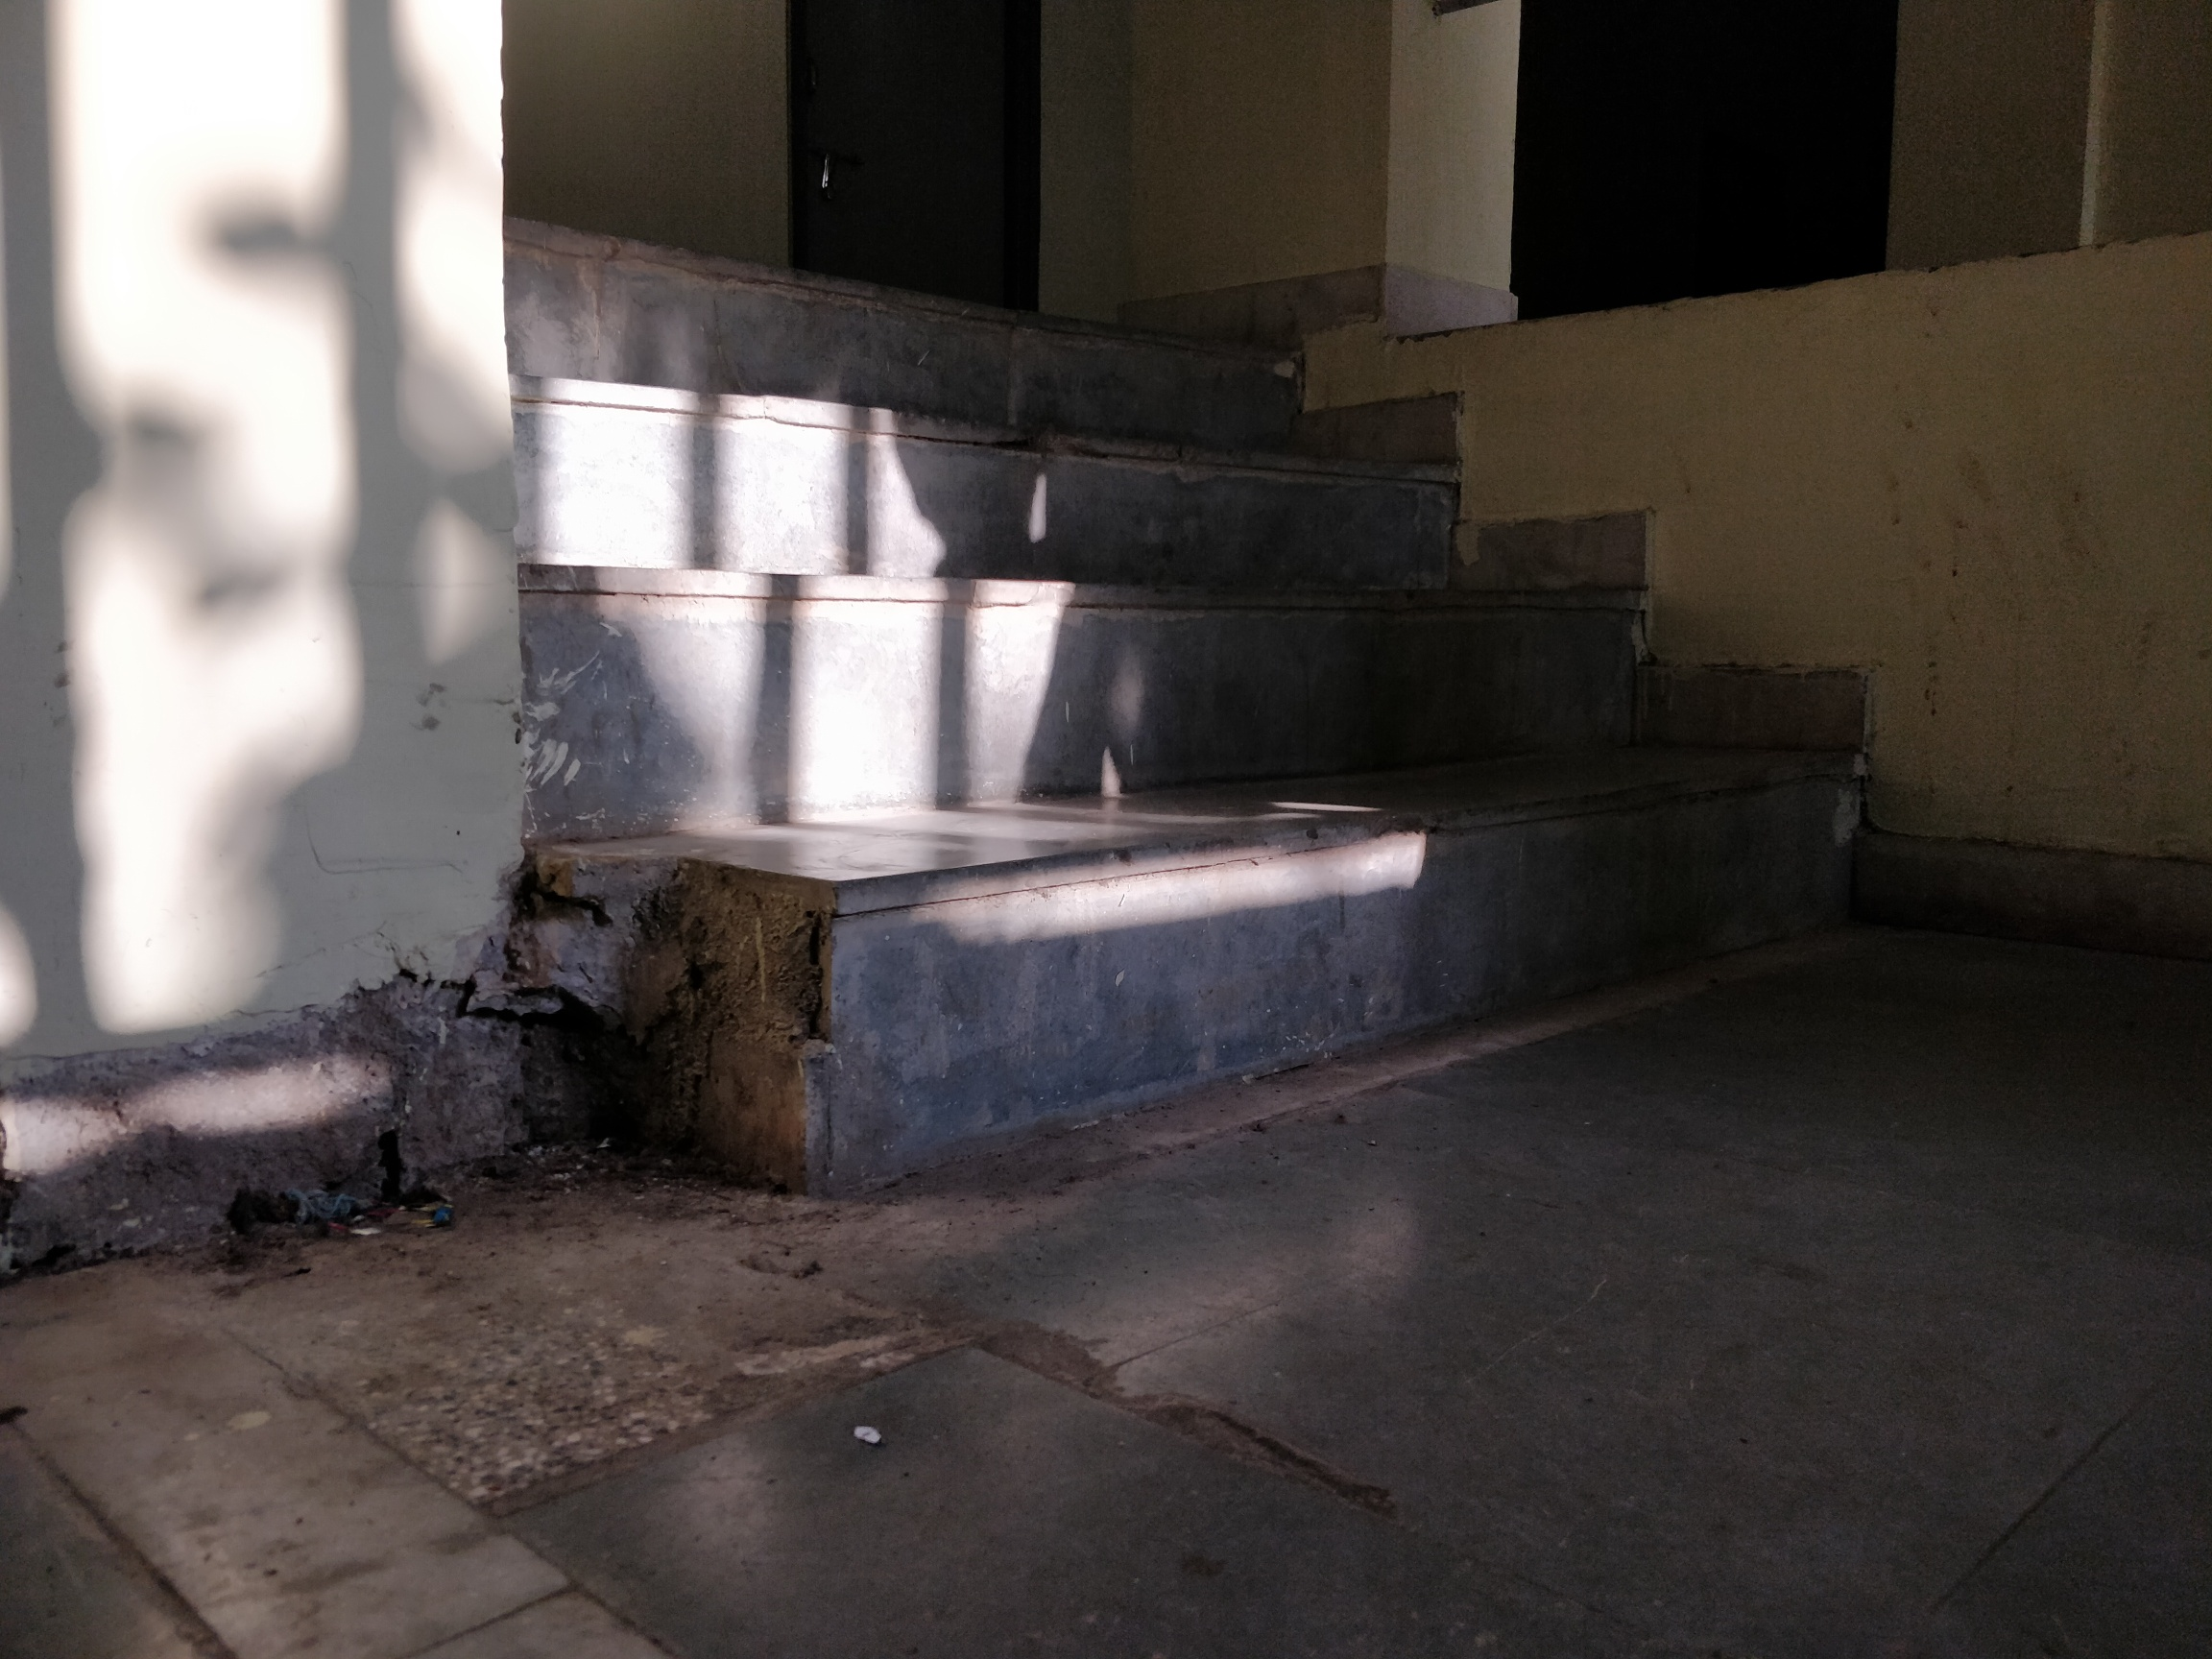stairs_up: (509, 214, 1871, 1009)
